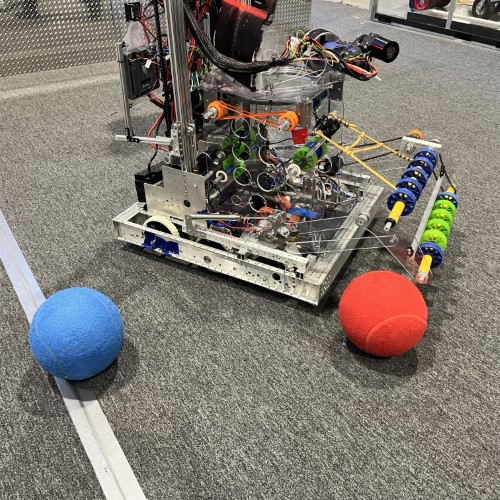blue: (26, 286, 126, 383)
red: (335, 266, 433, 360)
